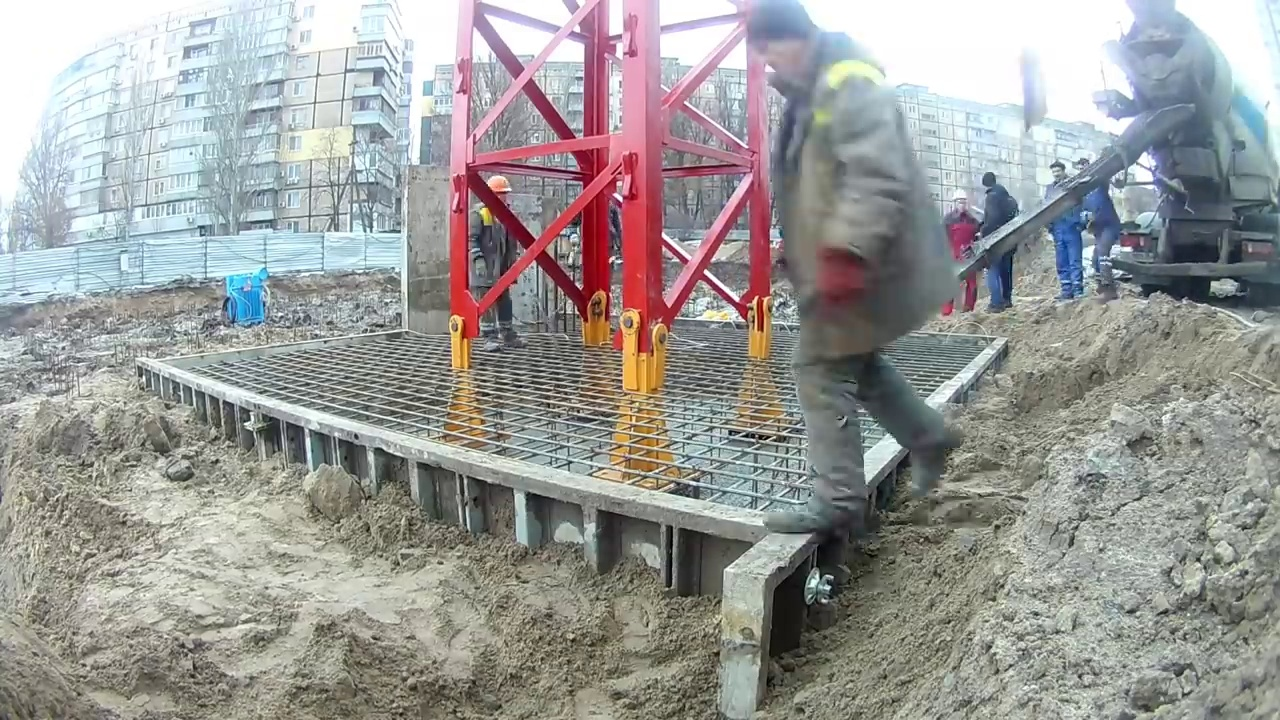helmet: (485, 175, 512, 193), (952, 189, 969, 203)
helmet-off: (739, 0, 847, 109), (1048, 161, 1069, 184), (981, 173, 999, 192)
helmet-on: (484, 175, 512, 209), (951, 188, 969, 216)
person: (740, 0, 965, 533), (465, 174, 522, 355), (1074, 155, 1122, 302), (1044, 160, 1088, 304), (939, 189, 985, 317), (981, 174, 1018, 315)
